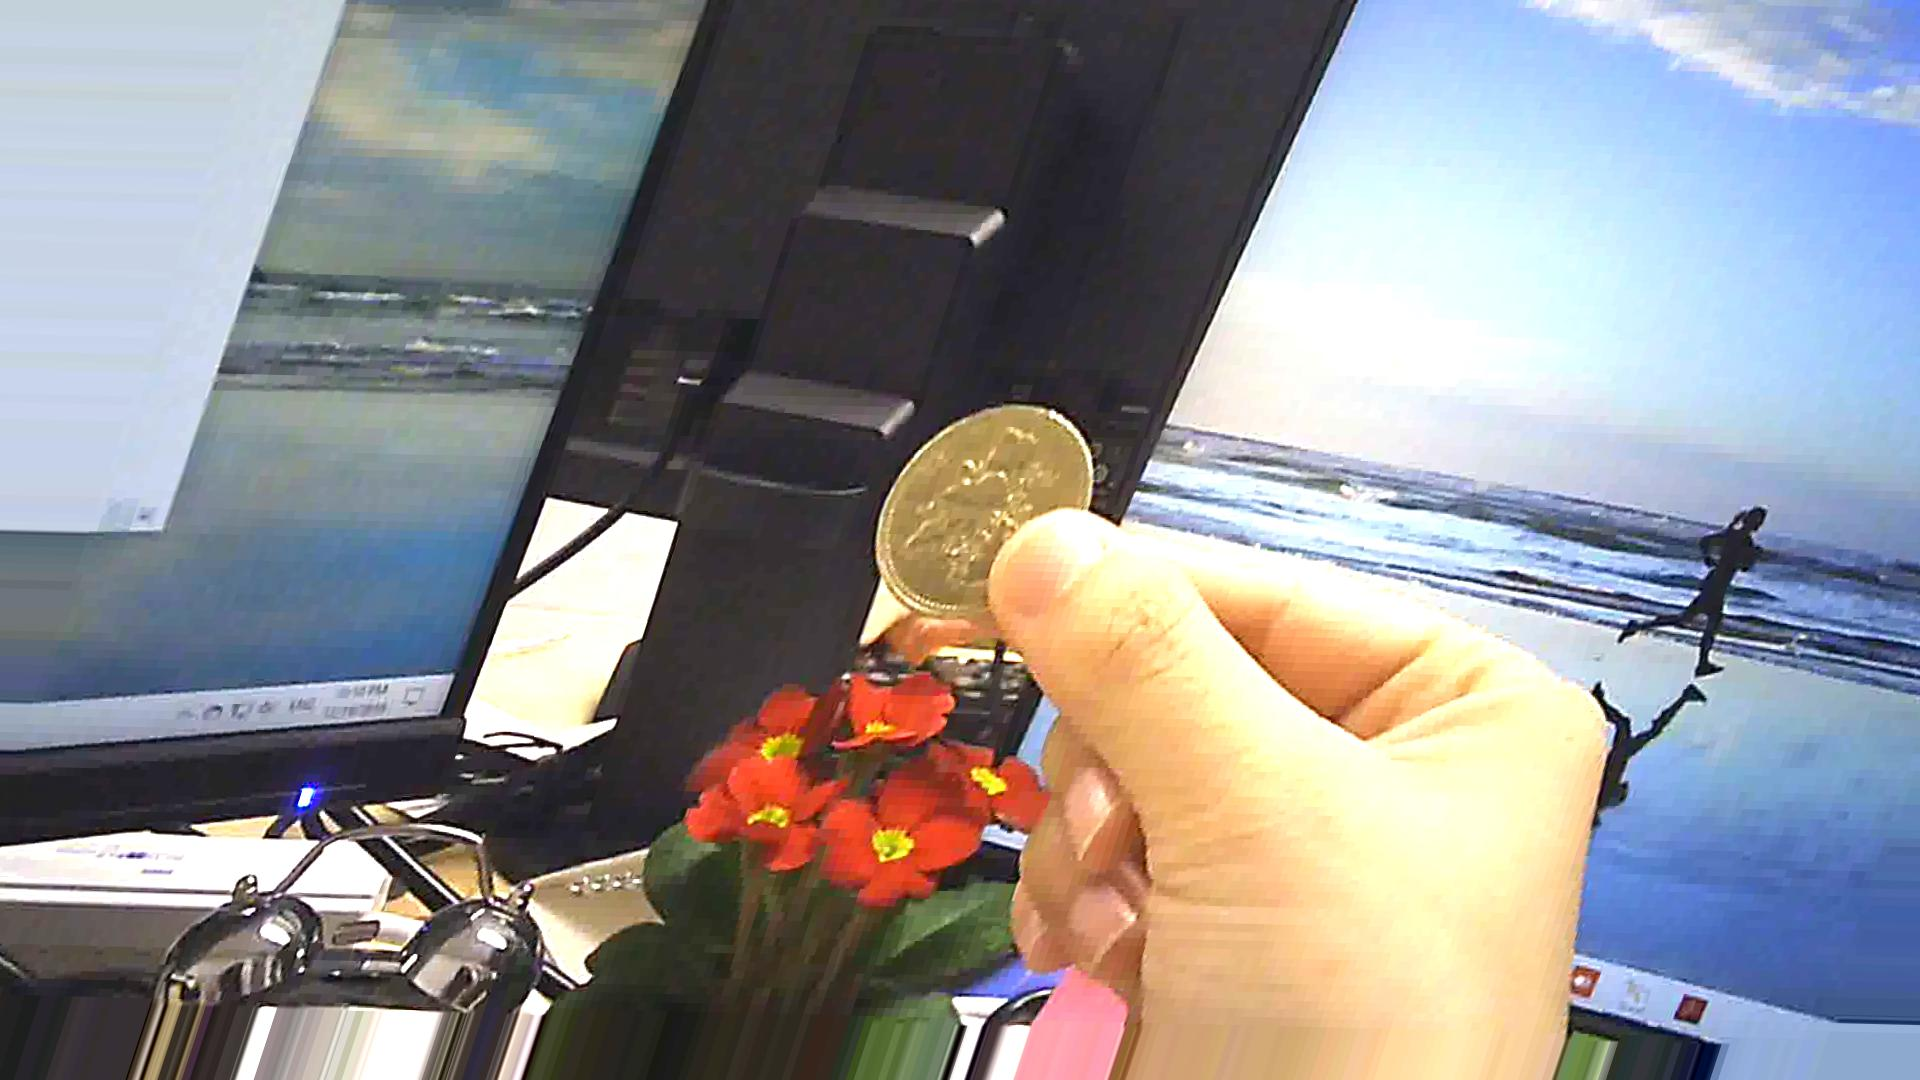500 Yen: (855, 364, 1100, 621)
